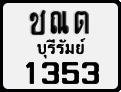letters: (49, 9, 70, 35), (28, 8, 46, 36), (40, 60, 60, 85), (81, 60, 101, 85), (61, 61, 80, 86), (73, 9, 91, 35), (25, 60, 36, 85)
province: (35, 37, 88, 59)
